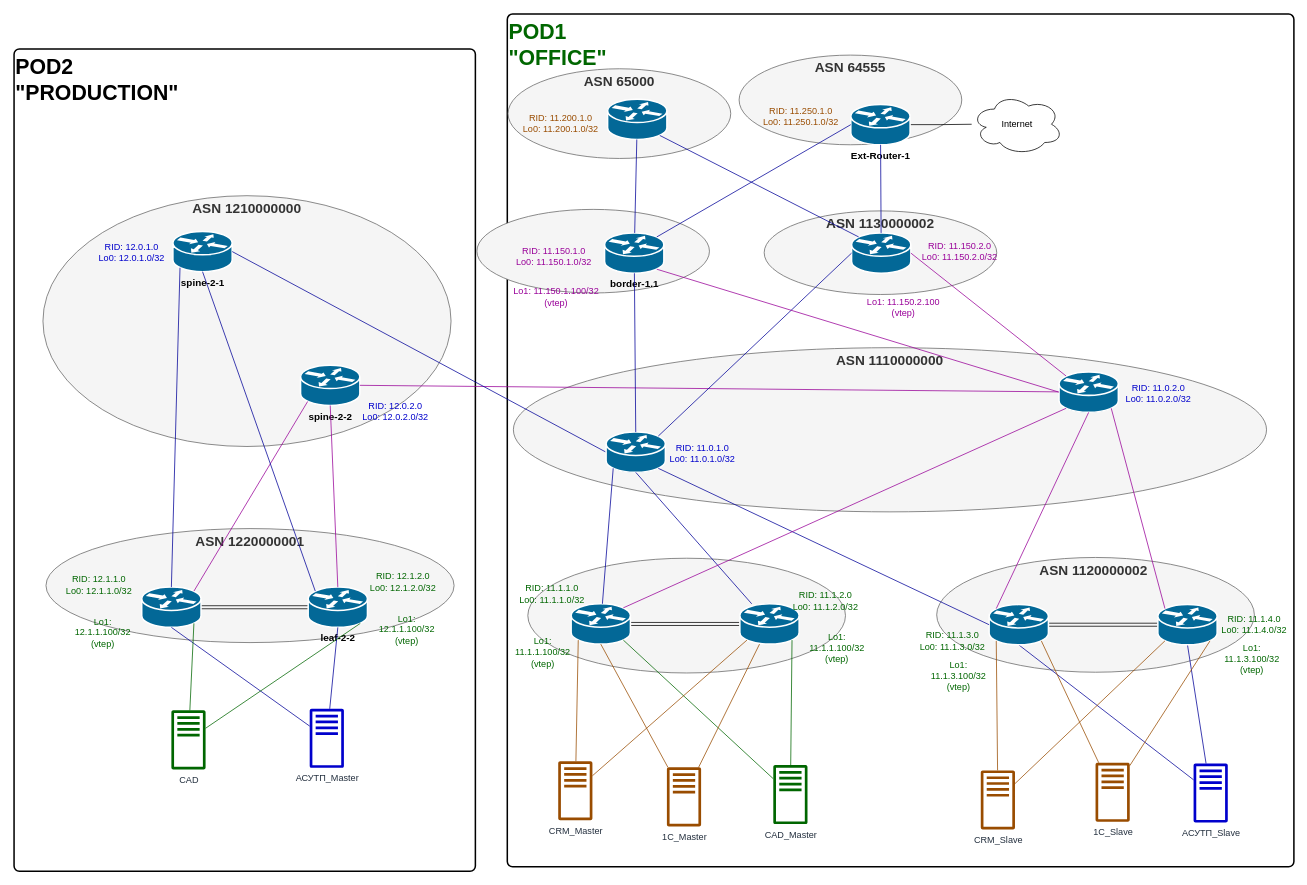
Image size: 1307x885. Some labels were removed from this diagram. The box of each missing label's shape, as (x1, y1, x2, y2) in pixels:
ASN 1120000001: (527, 557, 846, 673)
ASN 1130000001: (476, 209, 709, 293)
border-1.2: (850, 232, 911, 274)
Int-Router-1: (606, 98, 667, 140)
leaf-1-1: (570, 603, 631, 644)
leaf-1-2: (739, 603, 800, 644)
leaf-1-3: (988, 603, 1049, 645)
leaf-1-4: (1157, 603, 1218, 645)
leaf-2-1: (141, 586, 201, 628)
spine-1-1: (605, 431, 666, 473)
spine-1-2: (1058, 371, 1119, 413)
